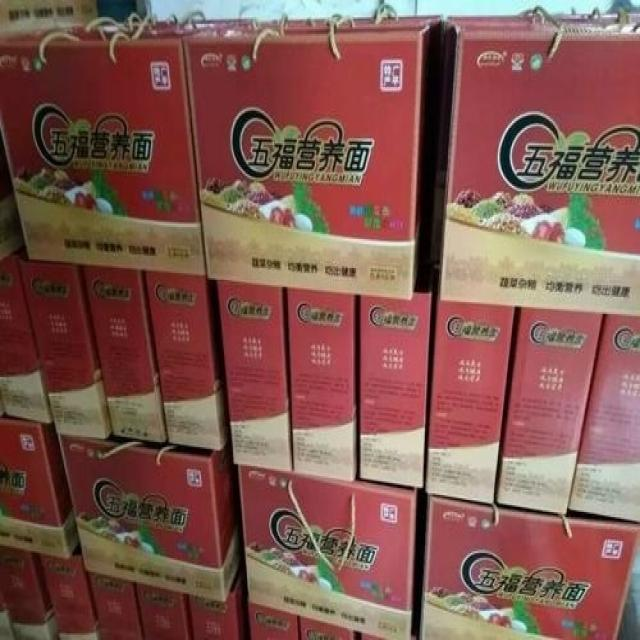box: (180, 26, 429, 302), (0, 12, 253, 276), (430, 12, 640, 317), (419, 495, 640, 640), (238, 464, 417, 638), (58, 433, 242, 602), (494, 307, 605, 517), (424, 299, 515, 505), (19, 253, 113, 440), (360, 259, 434, 488), (82, 265, 168, 444), (146, 271, 230, 451), (216, 280, 294, 473), (568, 314, 640, 522), (287, 288, 360, 483), (0, 418, 78, 558), (0, 259, 52, 425), (38, 539, 104, 640), (0, 544, 59, 640), (187, 560, 244, 640), (88, 573, 145, 640), (0, 121, 24, 263), (134, 584, 193, 640), (227, 15, 443, 27), (248, 601, 300, 640), (297, 614, 357, 640), (360, 633, 383, 640)
